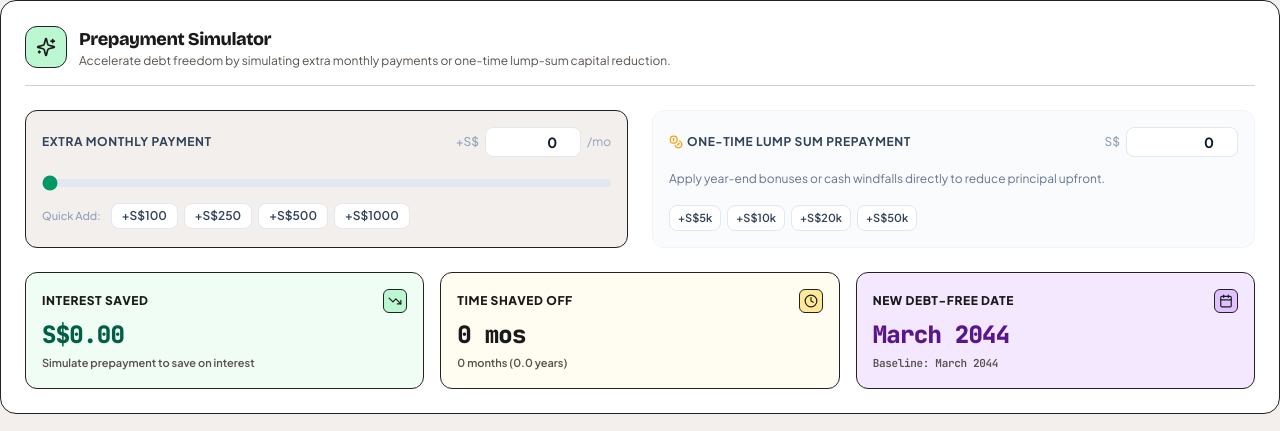
Test case: Task 9: Loans & Debt Freedom Engine › PrepaymentSimulator › quick preset buttons update prepayment amount
The width and height of the screenshot is (1280, 431).
Click the button "+S$500" at (293, 216), box [258,203,328,229]
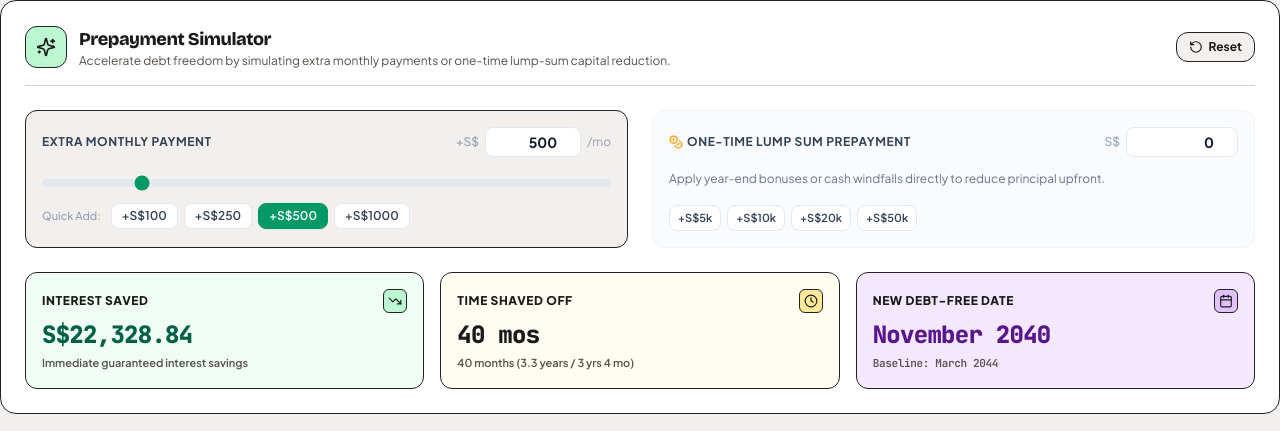
Now the number field with test id "extra-monthly-input" holds "500", box [485,127,581,157]
Click the button "Reset" at (1215, 47), box [1176,32,1255,62]
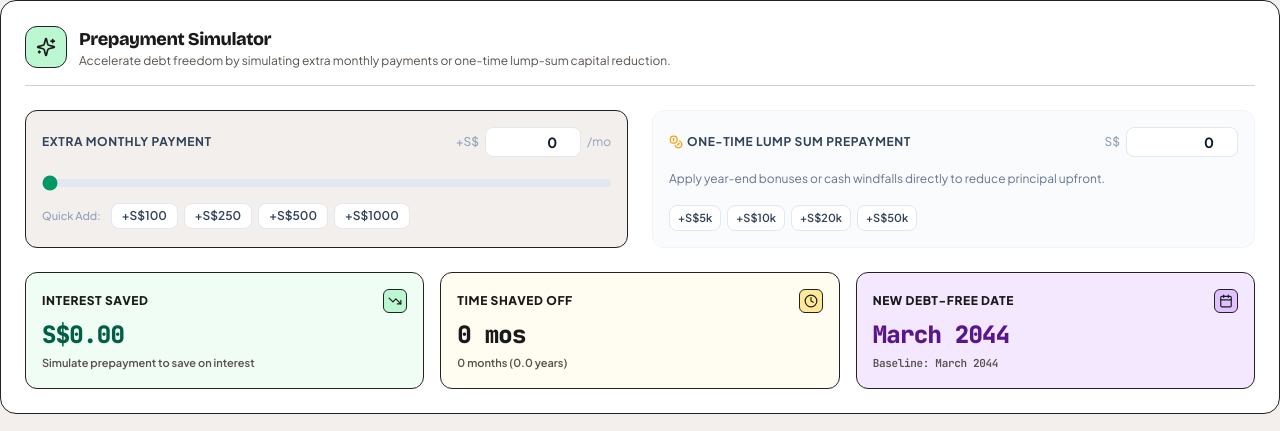
Now the number field with test id "extra-monthly-input" holds "0", box [485,127,581,157]
